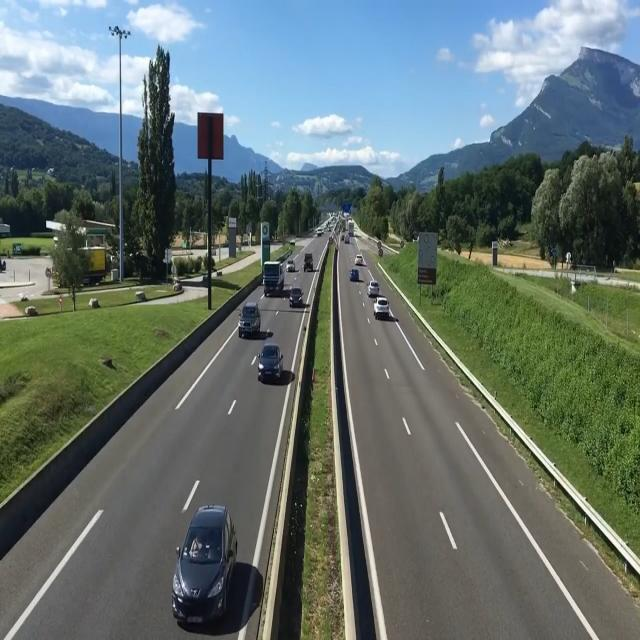car: (175, 493, 238, 632), (256, 334, 283, 388), (238, 301, 264, 342), (371, 289, 392, 325), (352, 254, 367, 282), (303, 246, 316, 276), (288, 288, 304, 310), (367, 280, 381, 300)
truck: (264, 259, 284, 298)
